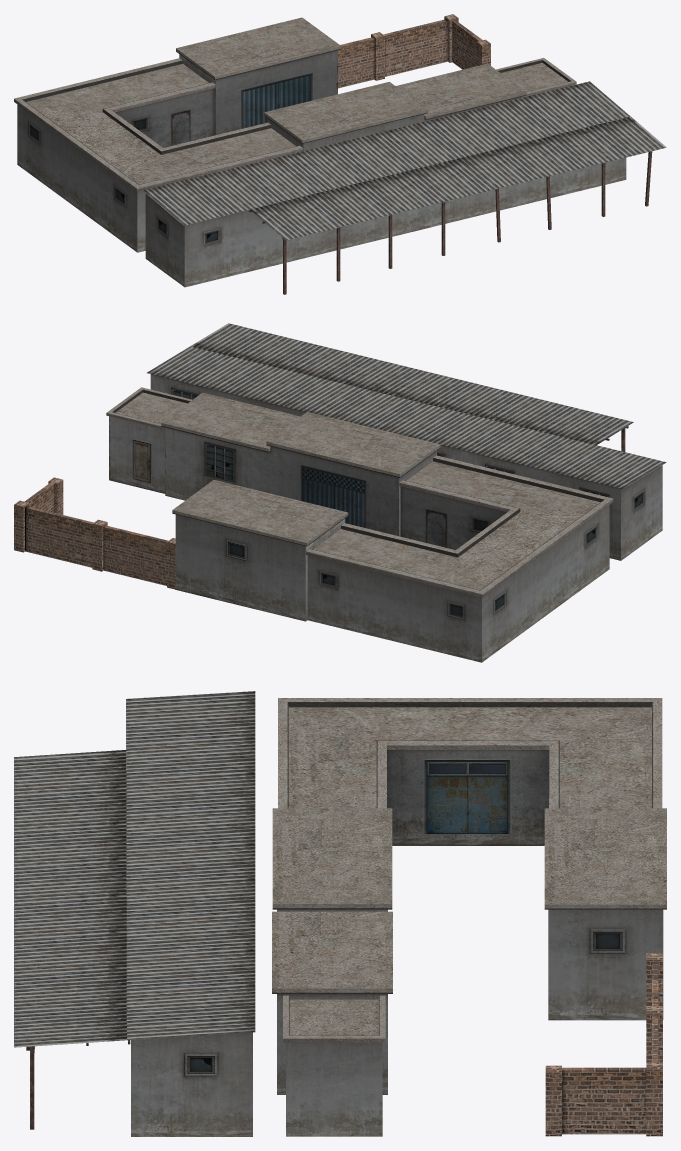
File: buildings_18.FBX
3 views of the same model, one above another, from view 1: azimuth 30°, elevation 25°; view 2: azimuth 150°, elevation 25°; view 3: azimuth 270°, elevation 25° (orthographic). The views are drawn at different scales.
Visible parts, largest first — view 1: objObject009; view 2: objObject009; view 3: objObject009.
Boxes of the visible parts, <box> form: objObject009: <box>14,14,666,294</box>; objObject009: <box>14,323,666,662</box>; objObject009: <box>14,691,666,1136</box>.
Bounding box in the file's own units: 2718 × 2198 × 437.
Materials: 2 (2 with a texture image).
